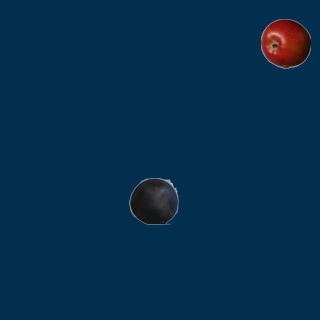Apple Braeburn: (260, 18, 310, 68)
Grape Blue: (128, 175, 178, 225)
